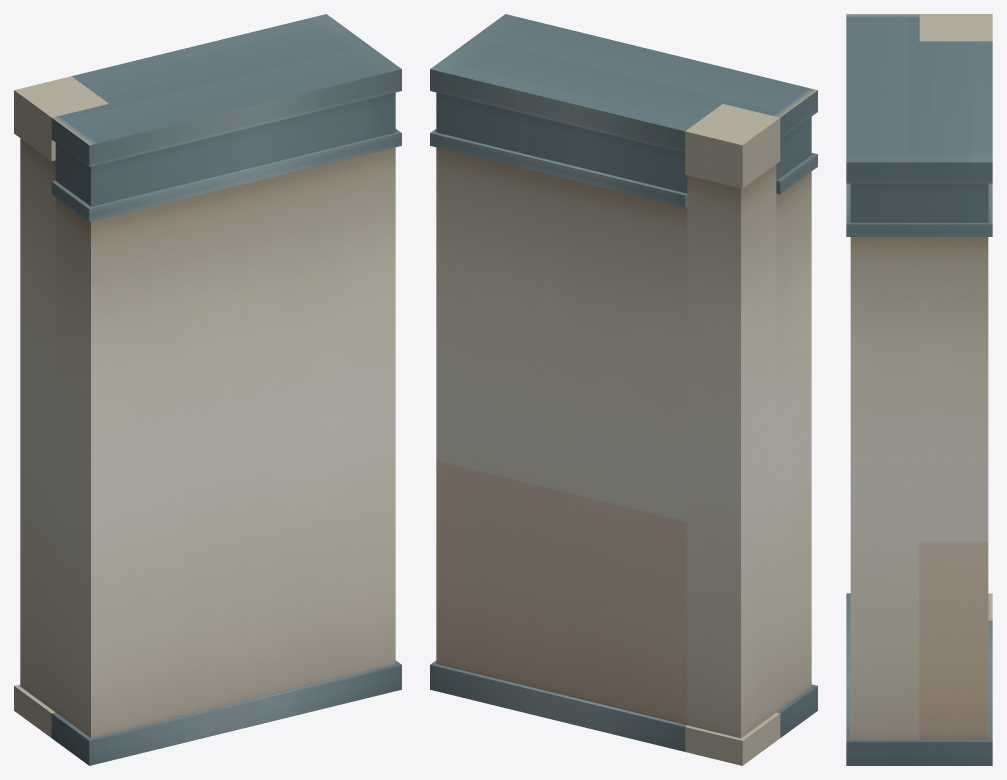
File: SHW_Pillar_01_26.fbx
The picture shows the model from 3 angles, left to right: view 1: azimuth 30°, elevation 25°; view 2: azimuth 150°, elevation 25°; view 3: azimuth 270°, elevation 25°; orthographic projection. The views are drawn at different scales.
Parts seen in each view (by area): view 1: shw_pillar_01_26; view 2: shw_pillar_01_26; view 3: shw_pillar_01_26.
Boxes of the visible parts, x1=… form: shw_pillar_01_26: x1=14, y1=14, x2=401, y2=765; shw_pillar_01_26: x1=430, y1=14, x2=817, y2=765; shw_pillar_01_26: x1=846, y1=14, x2=992, y2=765.
Bounding box in the file's own units: 158 × 300 × 66.
